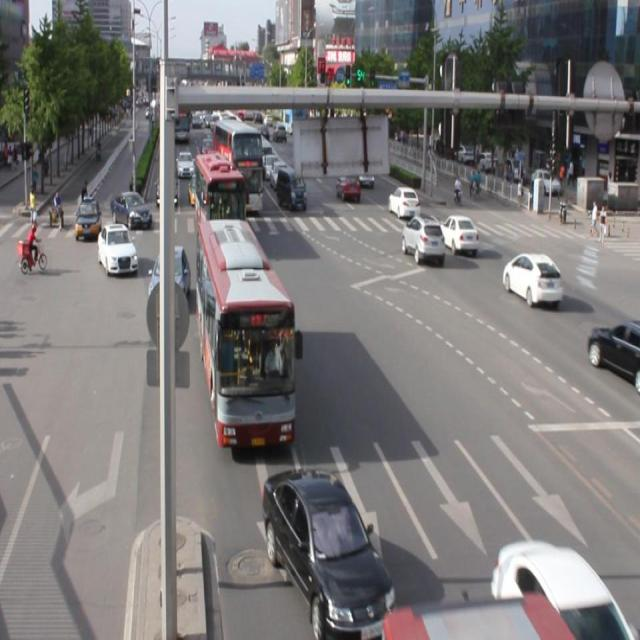car: (262, 467, 397, 640), (490, 537, 640, 640), (586, 319, 640, 384), (500, 249, 562, 304), (147, 244, 191, 314), (98, 222, 138, 277), (401, 213, 444, 264), (439, 212, 478, 251)
van: (198, 221, 294, 444)
